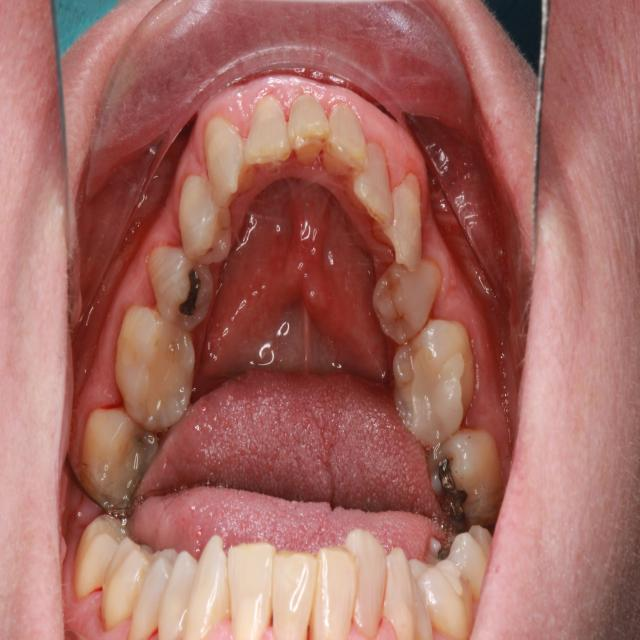tooth: (112, 295, 202, 436), (390, 328, 482, 457), (80, 396, 171, 524), (419, 427, 508, 538), (361, 258, 450, 359), (136, 244, 221, 343), (368, 170, 435, 277), (172, 177, 240, 274), (316, 90, 379, 193), (198, 111, 257, 219), (344, 131, 401, 238), (277, 81, 337, 181), (241, 89, 302, 187)
